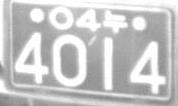0: (51, 33, 88, 89), (48, 6, 74, 30)
1: (94, 37, 125, 90)
4: (129, 40, 167, 94), (13, 31, 48, 85), (76, 8, 101, 32)
누: (103, 9, 128, 33)
